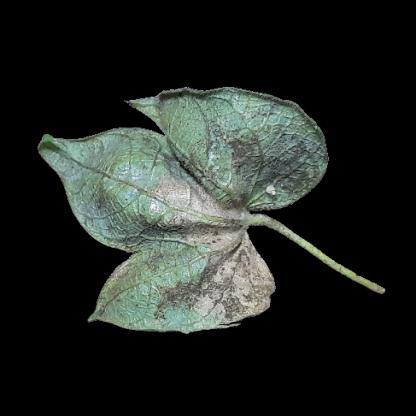curl_stage2: (103, 154, 160, 217)
sooty: (227, 134, 320, 196), (180, 248, 251, 323)
